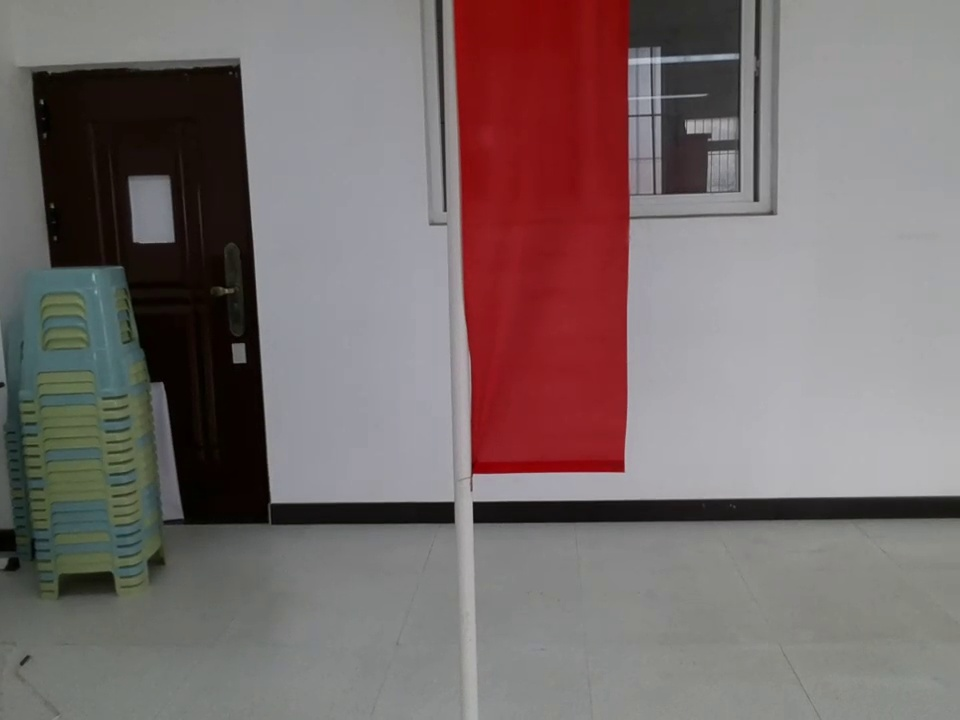qi: (434, 1, 632, 498)
